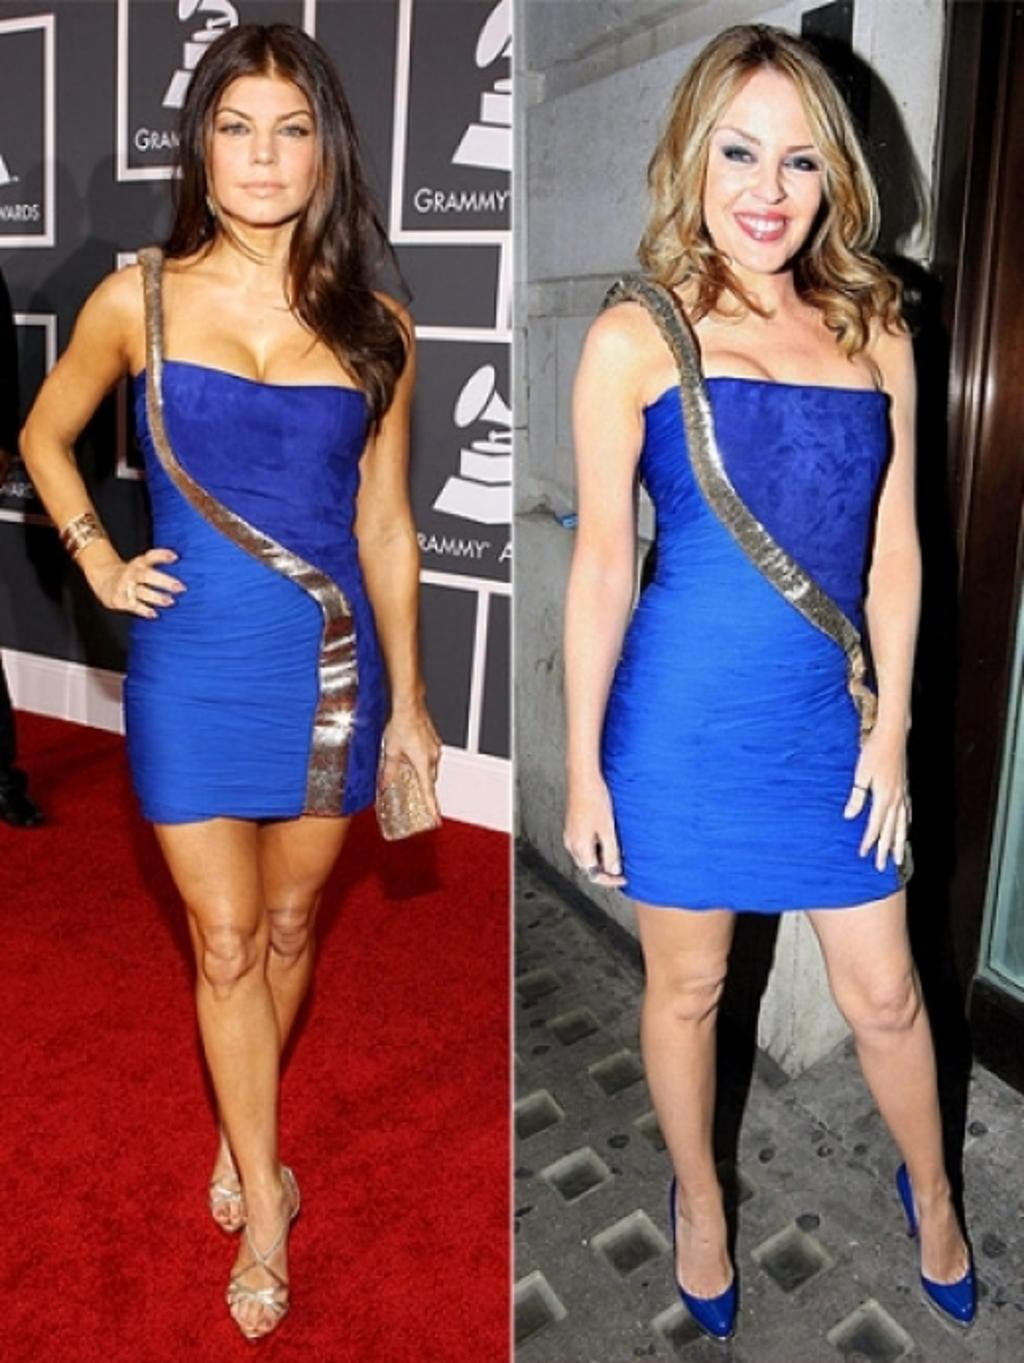face: (702, 74, 822, 271), (197, 69, 322, 221)
